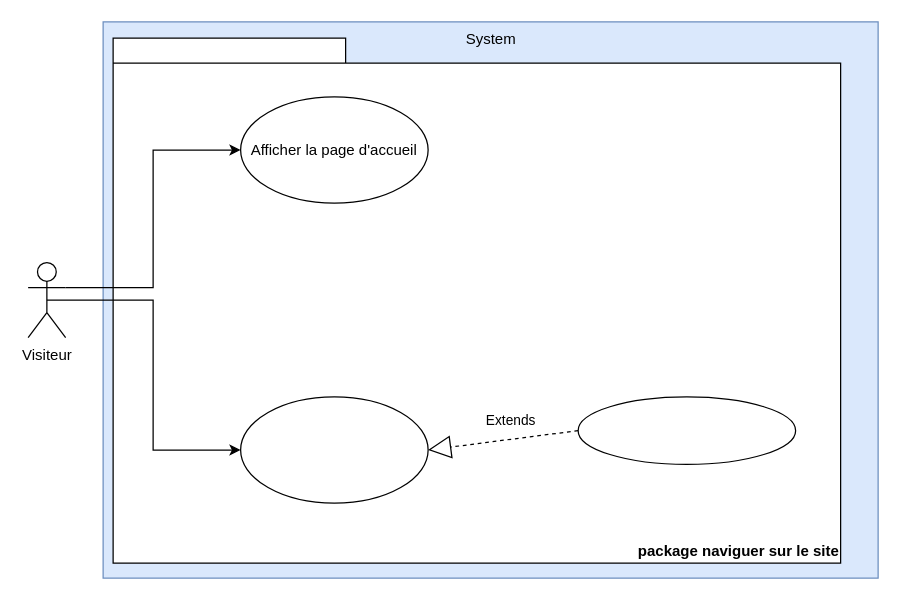
The diagram is 900 pixels wide and 600 high, and some of its shapes have lost their labels. Here are the shapes that lost their labels. From the top down, the box of each, then its label:
(239, 396, 428, 503): Afficher la liste des posts
(577, 396, 796, 464): Afficher la page d'un post
